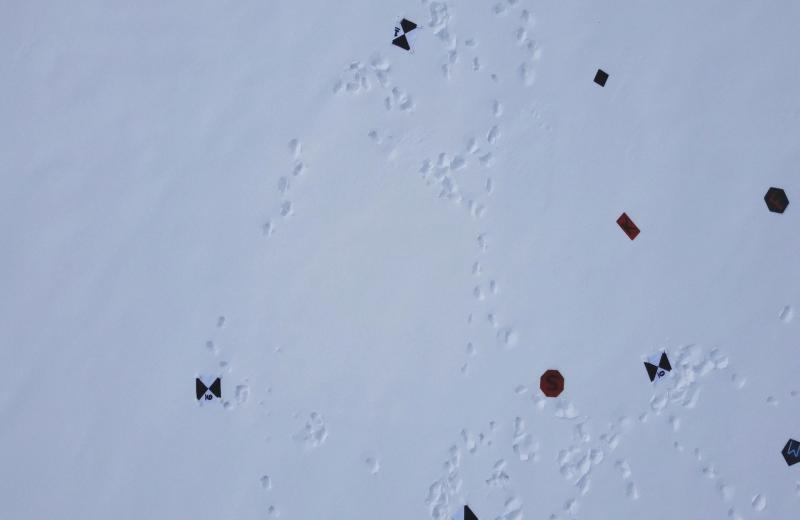Hexagon: (764, 180, 794, 219)
Octagon: (537, 367, 567, 402)
Pentagon: (773, 434, 800, 469)
Rectangle: (614, 207, 643, 242)
Square: (590, 66, 612, 90)
